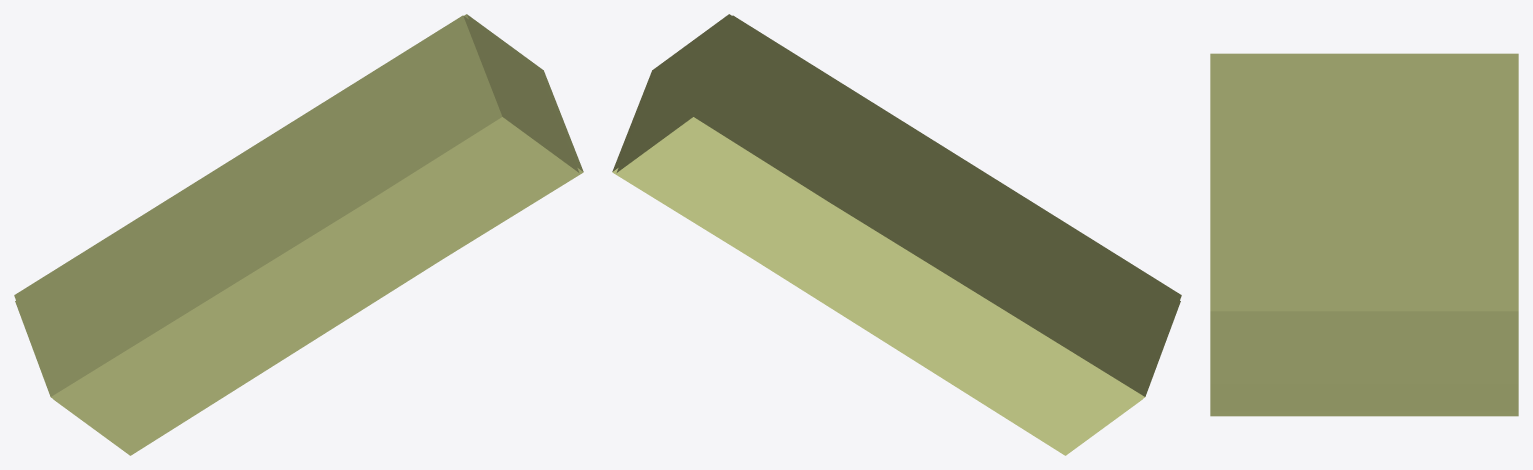
3 views of the same model, side by side, from view 1: azimuth 30°, elevation 25°; view 2: azimuth 150°, elevation 25°; view 3: azimuth 270°, elevation 25° (orthographic). The views are drawn at different scales.
Parts seen in each view (by area): view 1: 0_1_3_2_1_1_1_2_3; view 2: 0_1_3_2_1_1_1_2_3; view 3: 0_1_3_2_1_1_1_2_3.
Part boxes in pixels (x1,y1,x2,y2): 0_1_3_2_1_1_1_2_3: (14,14,583,455); 0_1_3_2_1_1_1_2_3: (612,14,1181,455); 0_1_3_2_1_1_1_2_3: (1210,53,1518,416).
Size of the model in its own units: 33.23 by 18.35 by 9.
